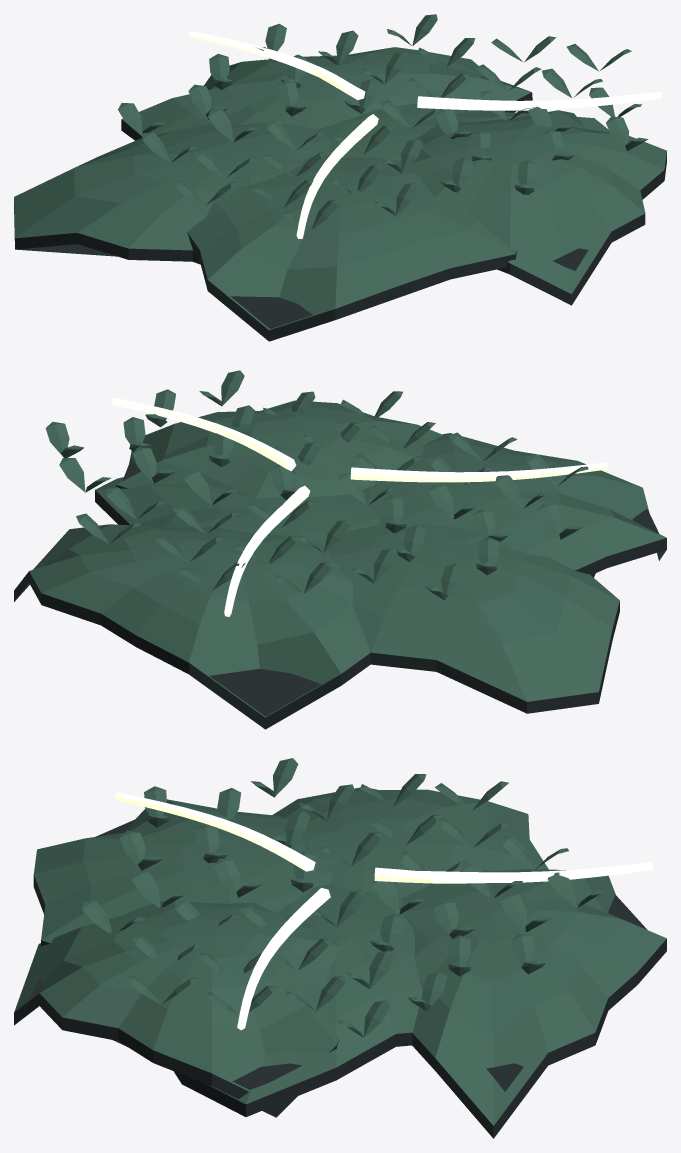
The model's file is GLOW_MOSS_PATCH.hi.glb.
3 views of the same model, one above another, from view 1: azimuth 30°, elevation 25°; view 2: azimuth 150°, elevation 25°; view 3: azimuth 270°, elevation 25° (orthographic). The views are drawn at different scales.
Visible parts, largest first — view 1: GLOW_MOSS_PATCH; view 2: GLOW_MOSS_PATCH; view 3: GLOW_MOSS_PATCH.
Part boxes in pixels (bbox=[...]): GLOW_MOSS_PATCH: bbox=[14, 14, 666, 341]; GLOW_MOSS_PATCH: bbox=[14, 370, 666, 729]; GLOW_MOSS_PATCH: bbox=[14, 758, 666, 1138].
Size of the model in its own units: 0.4753 by 0.1024 by 0.4145.
1 material, 1 textured.
